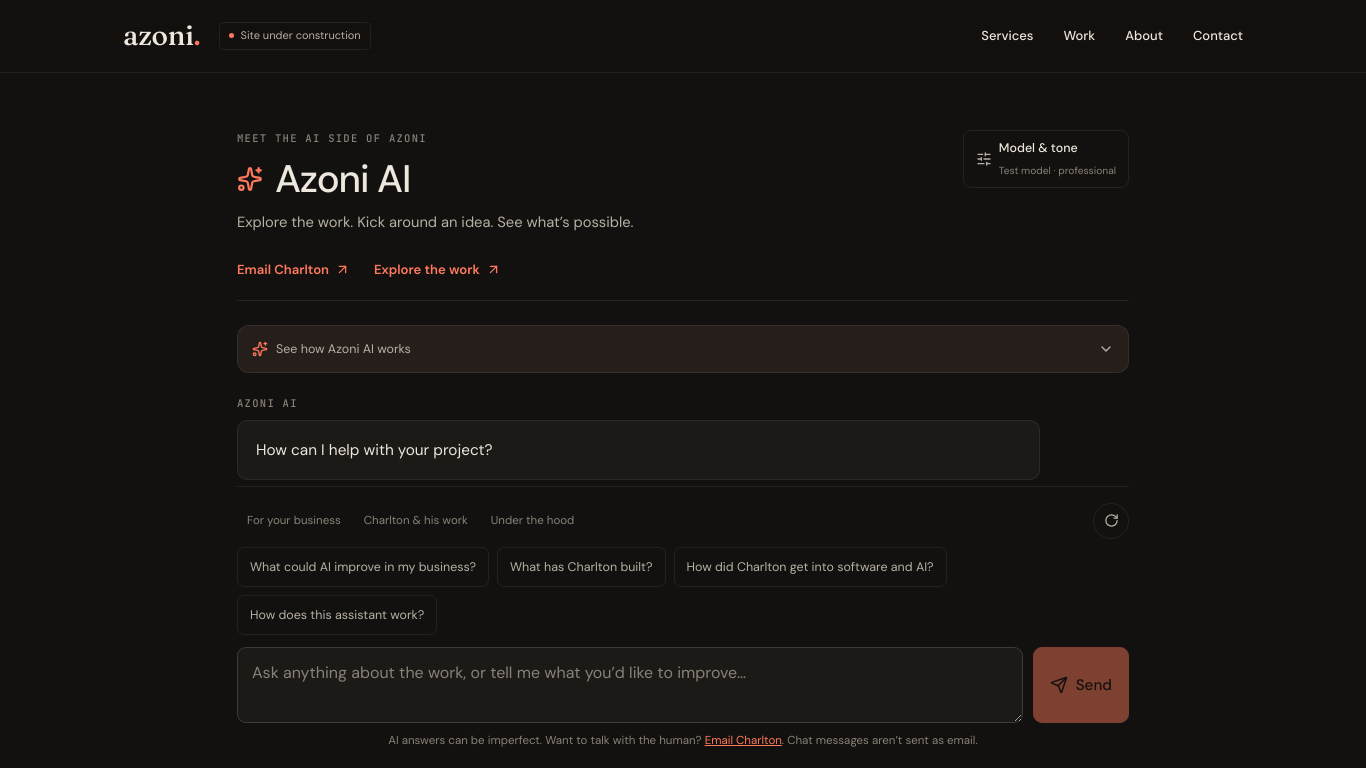
Test: optional settings have labelled controls and stay out of the default conversation
Click the button "Model & tone Test model · professional" at (1046, 159), box [963,130,1129,188]
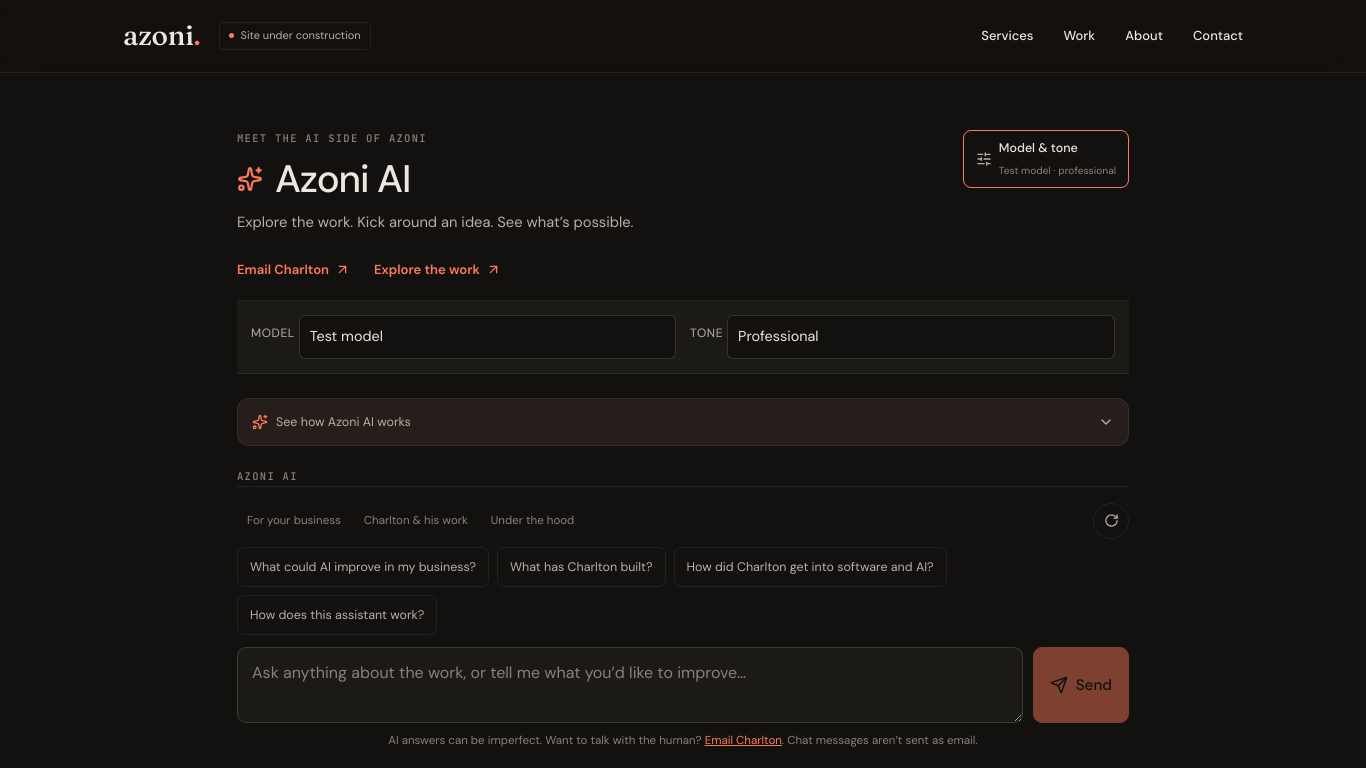
Expected: the label "Model" is shown, [251,324,295,344]
Expected: the label "Tone" is shown, [690,324,723,344]
